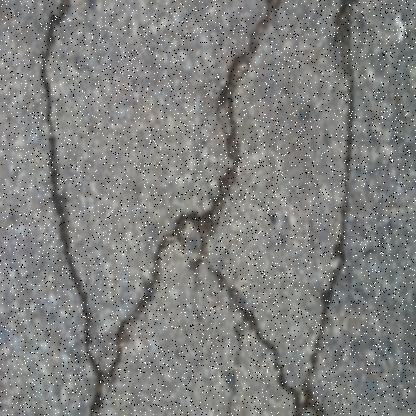Cracks: (108, 0, 377, 416), (38, 0, 107, 416)
